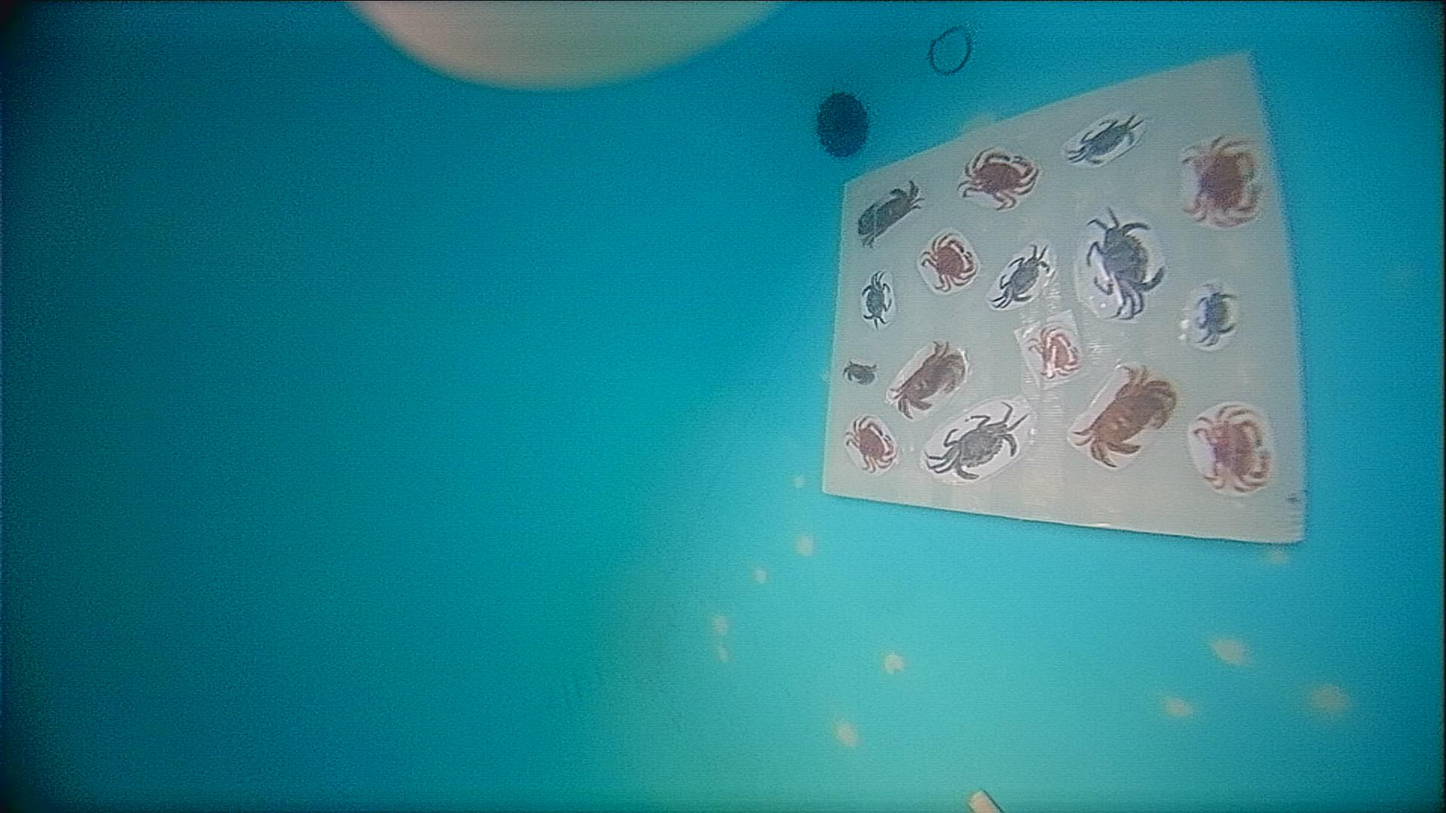GreenCrab: (1085, 209, 1163, 318), (926, 406, 1024, 480), (992, 245, 1049, 309)
